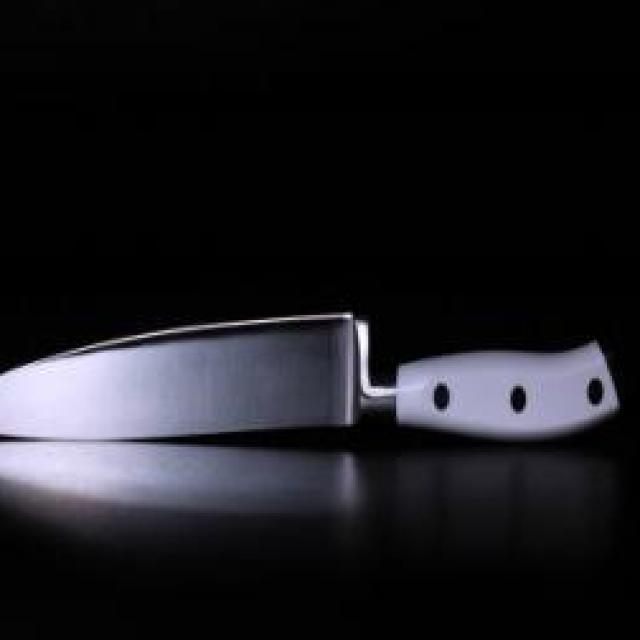knife: (0, 300, 622, 450)
